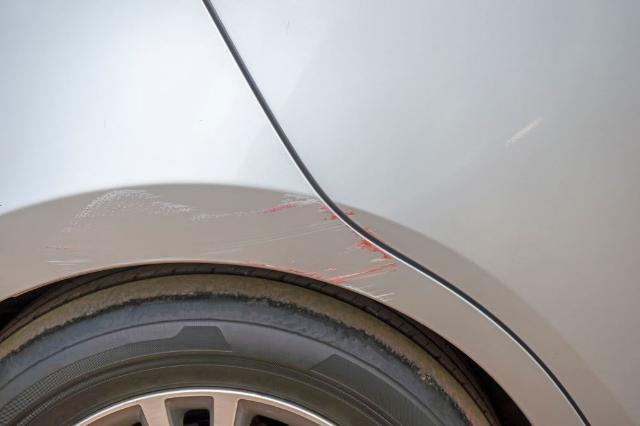scratch: (47, 186, 401, 304)
